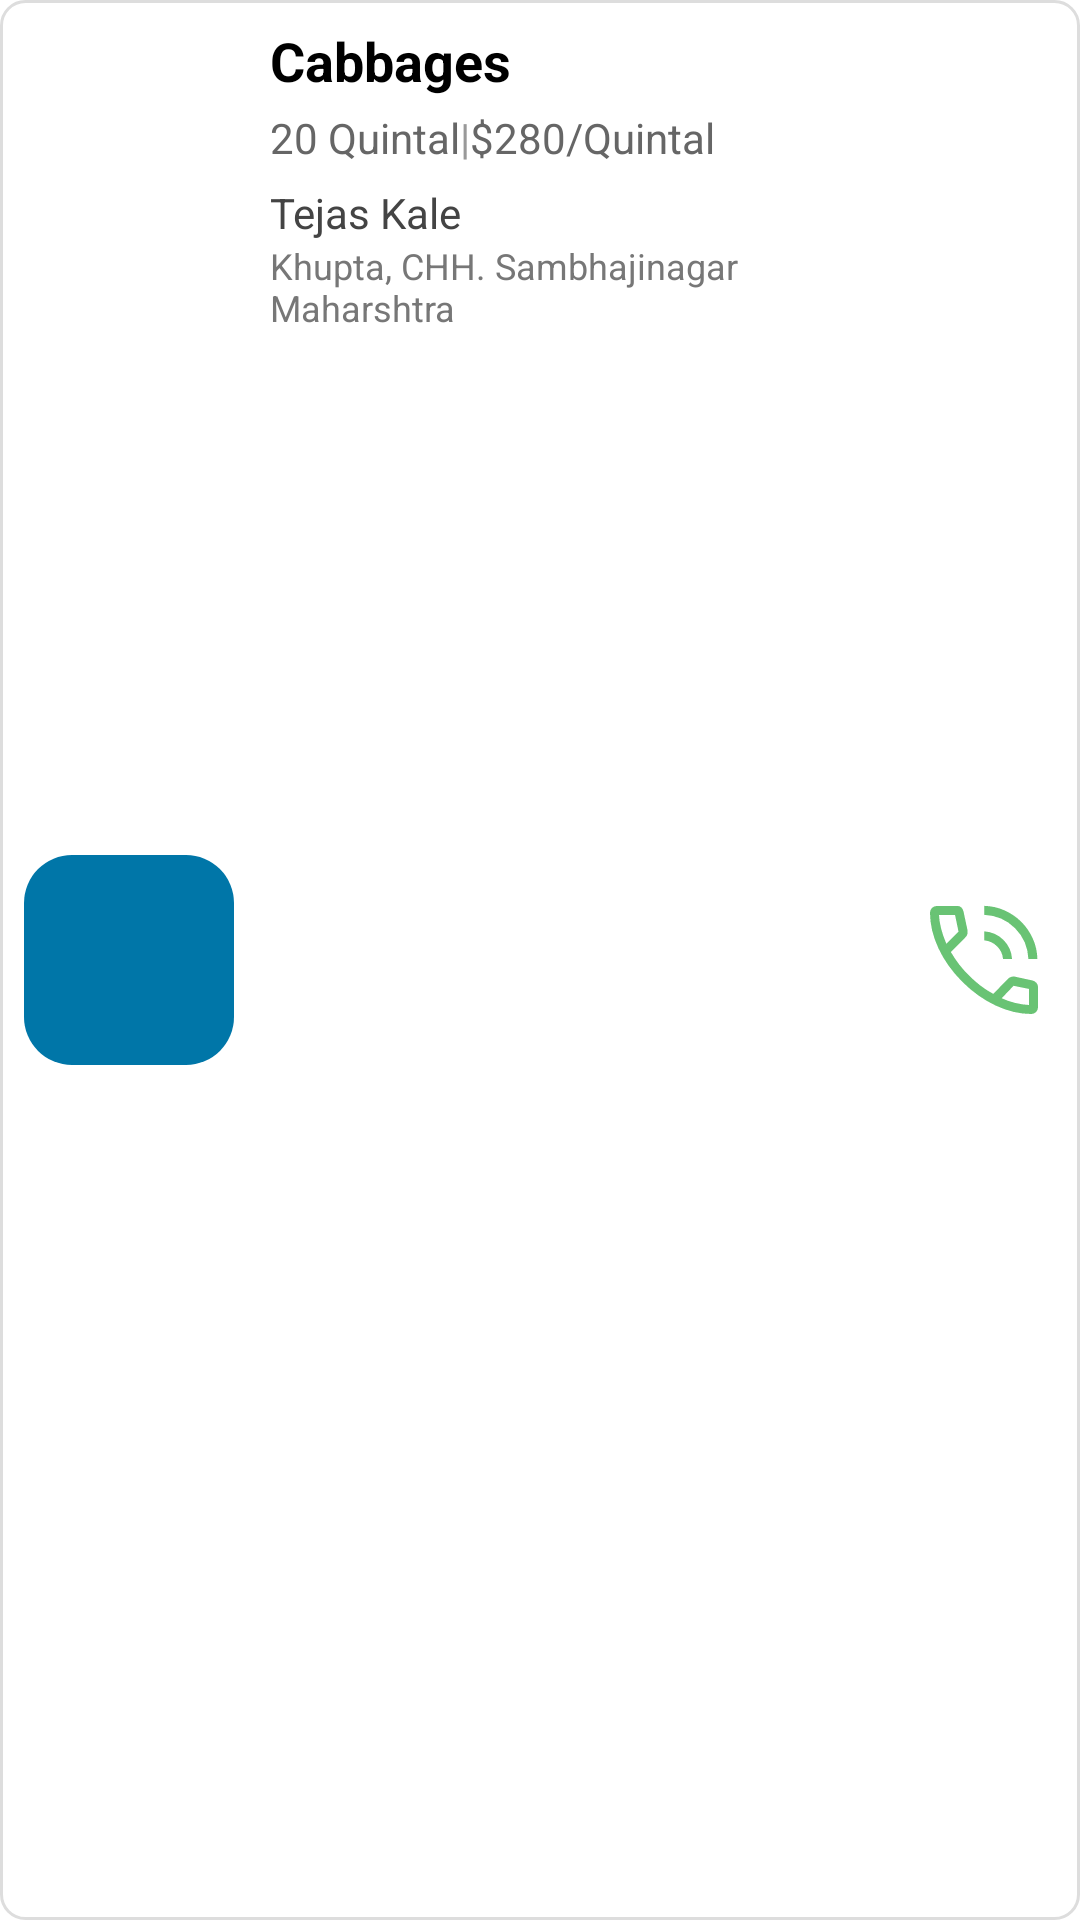

Named icons in this screenshot (1080px×1920px) and their bounding boxes, (x1, y1, x2, y2):
Call Button: (930, 906, 1038, 1014)
